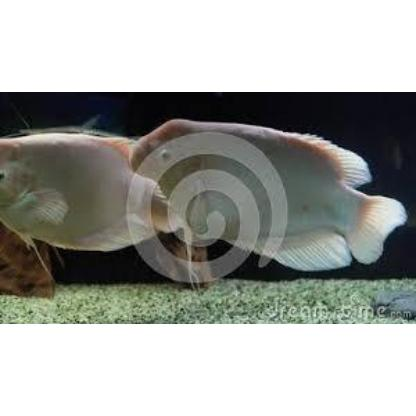gurame: (134, 124, 412, 254), (0, 126, 170, 260), (173, 124, 406, 214)
